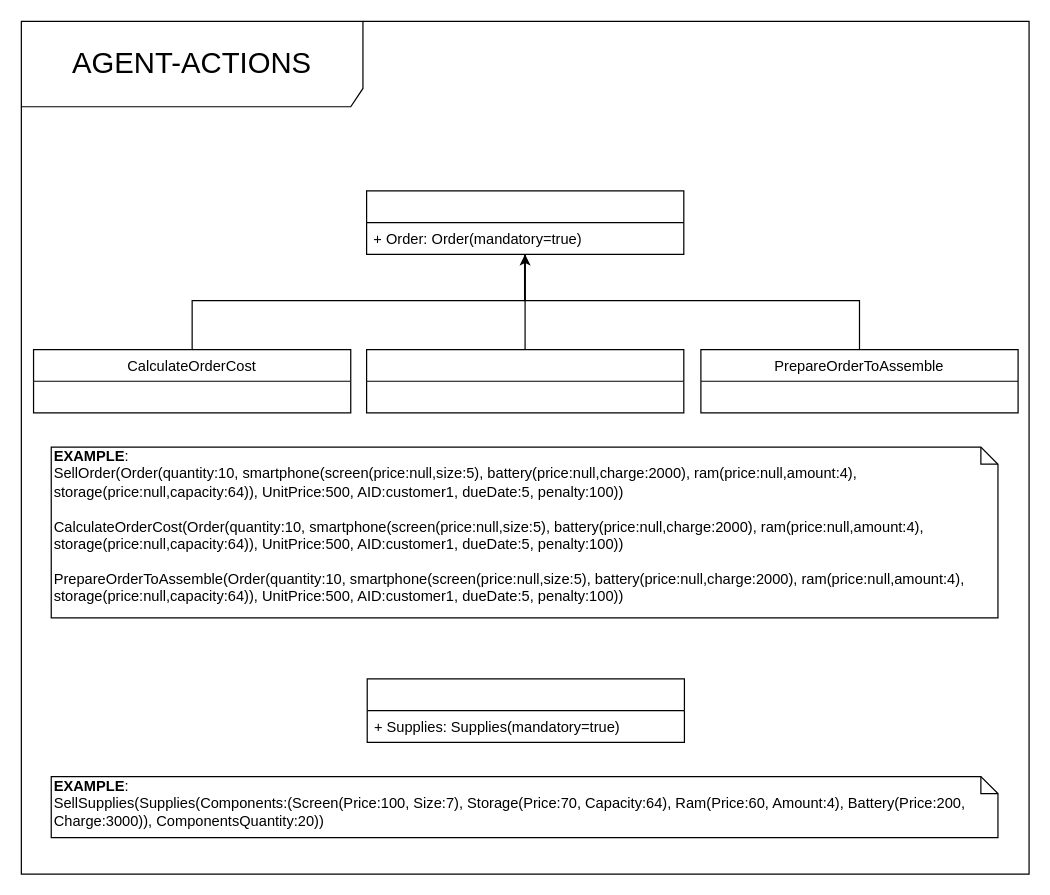
Some shapes in this 1050 by 895 pixel diagram are drawn without their labels. The shapes that lost their labels are listed below. From the top down, each one's box as (x1, y1, x2, y2) in pixels, then its label:
(365, 190, 684, 254): OrderAction
(365, 348, 684, 413): SellOrder
(366, 678, 684, 742): SellSupplies
